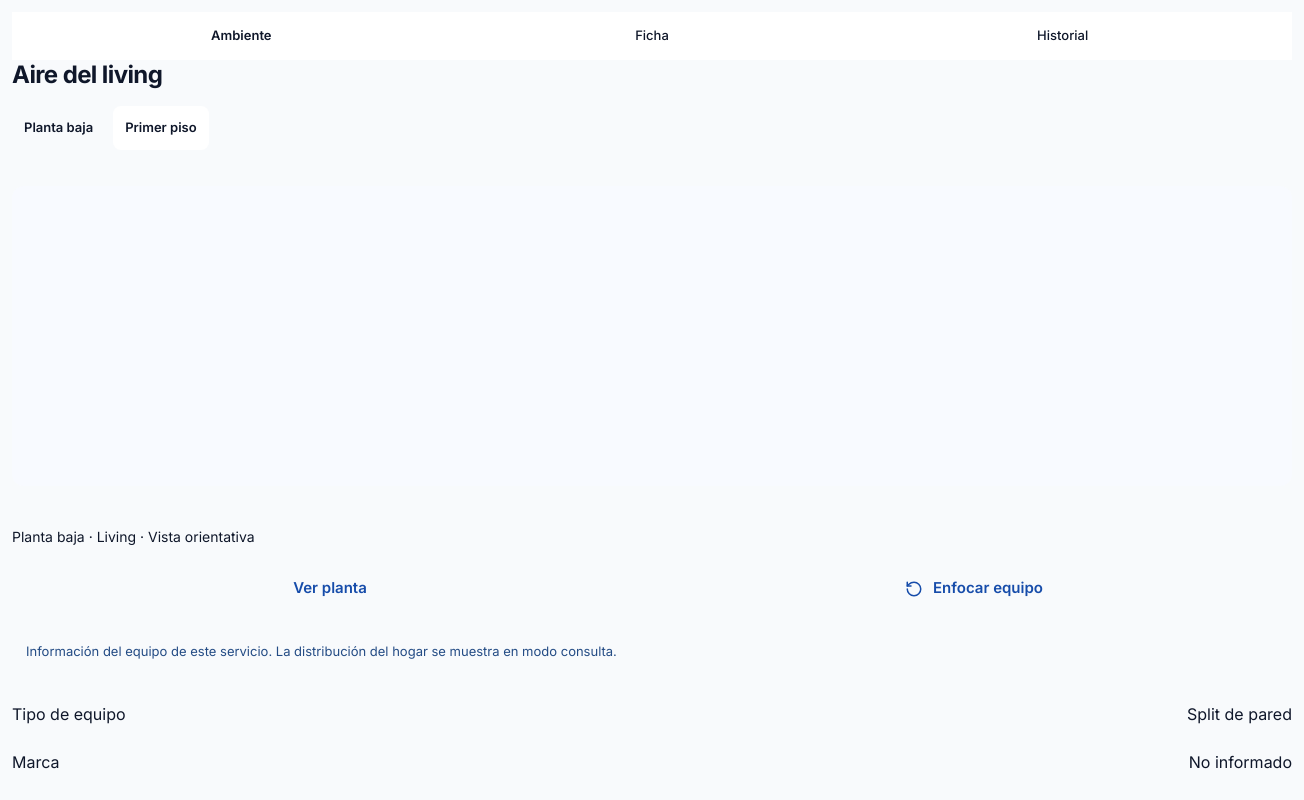
Scenario: assigned professional equipment and evidence › keeps the equipment facts at the saved placement after exploring another floor
Click the button "Primer piso": [161, 128] box 113,106 -> 209,150
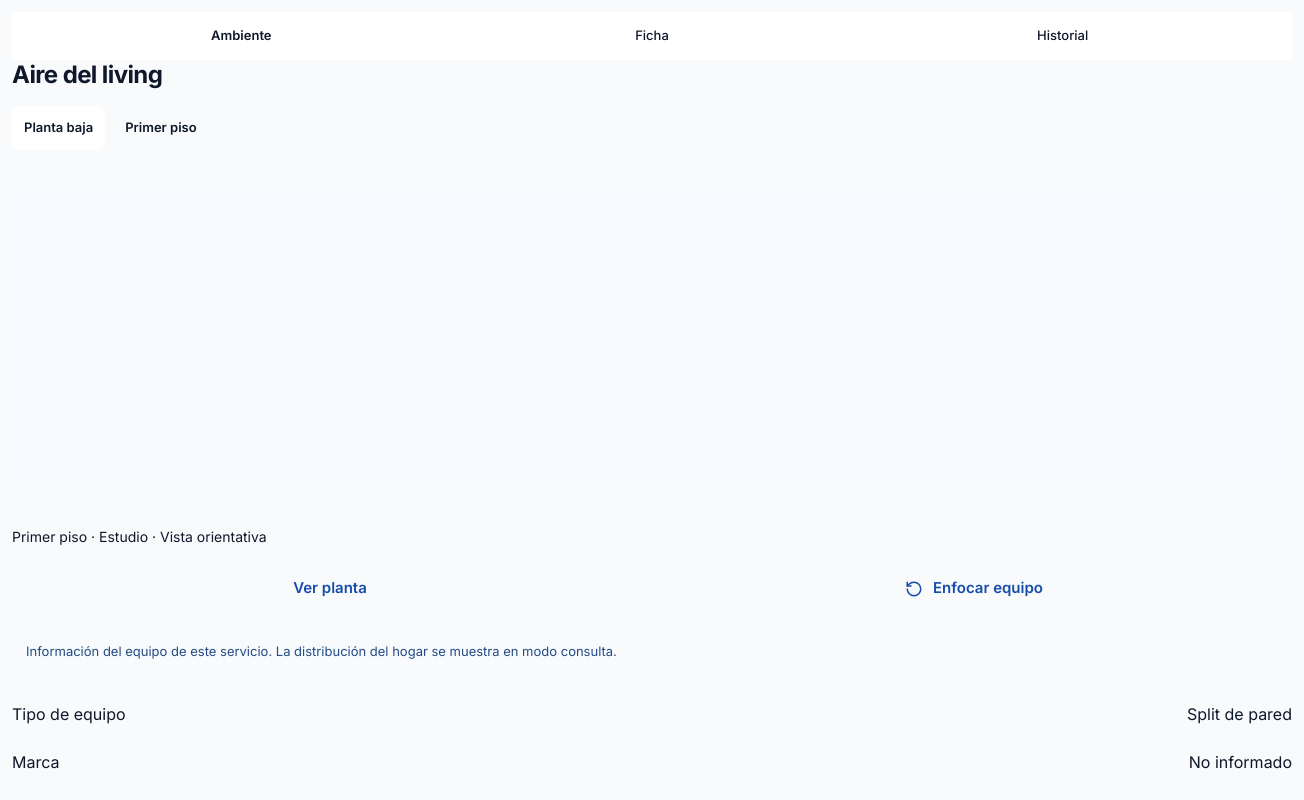
Click the tab "Ficha": [652, 36] box 447,12 -> 857,60
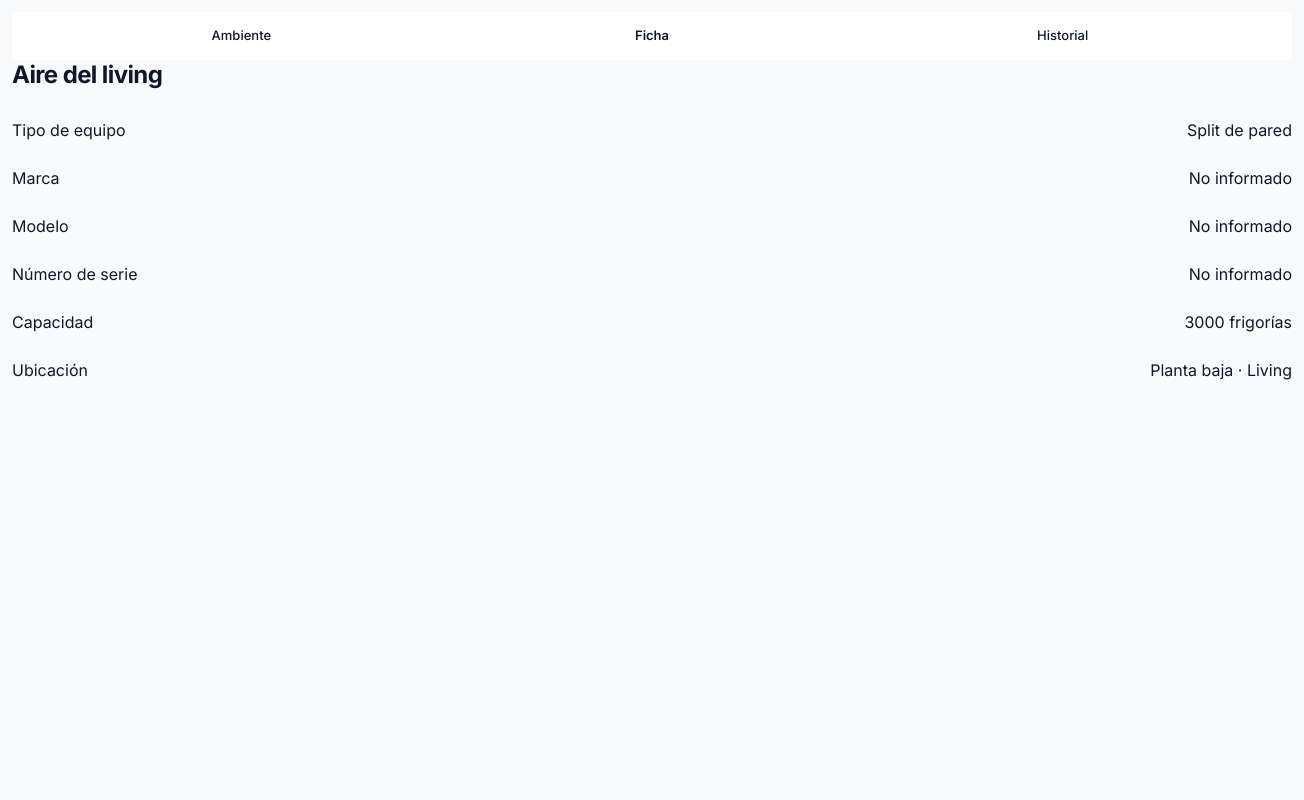
Expected: the text "Planta baja · Living" is shown, 1150,358 -> 1292,382
Expected: the text "Primer piso · Estudio" is gone
